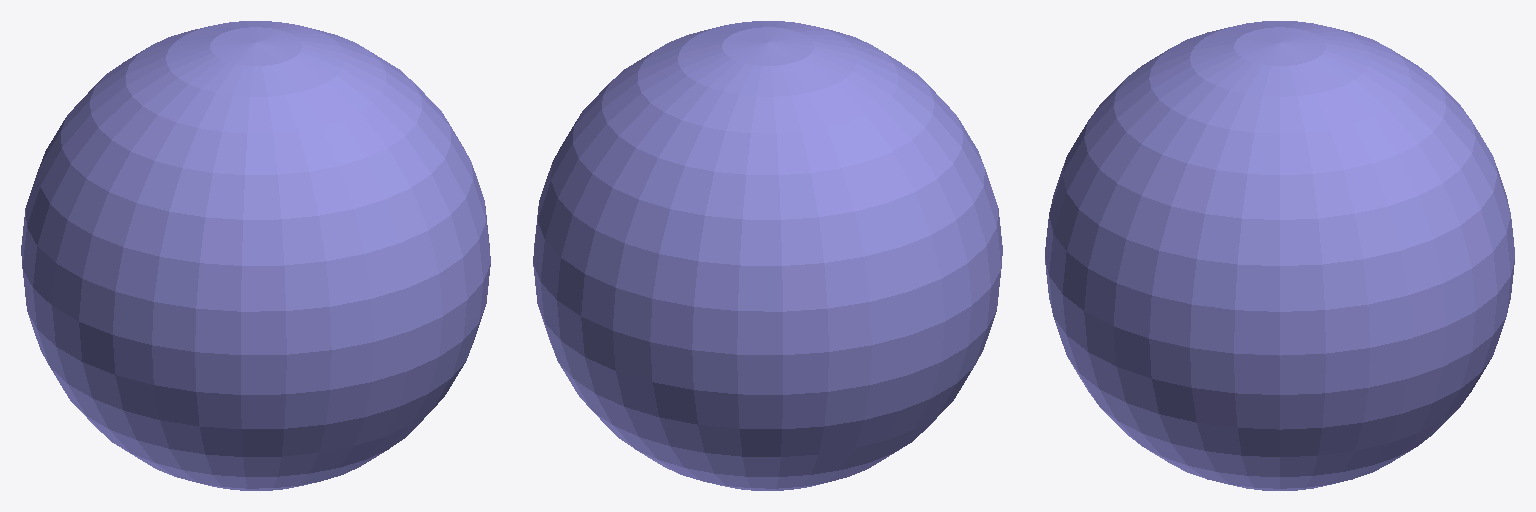
File: smooth_sphere.obj
3 views of the same model, side by side, from view 1: azimuth 30°, elevation 25°; view 2: azimuth 150°, elevation 25°; view 3: azimuth 270°, elevation 25° (orthographic).
Visible parts, largest first — view 1: Sphere; view 2: Sphere; view 3: Sphere.
Boxes of the visible parts, <box> form: Sphere: <box>21,21,490,490</box>; Sphere: <box>533,21,1002,490</box>; Sphere: <box>1045,21,1514,490</box>.
Size of the model in its own units: 2 by 2 by 2.